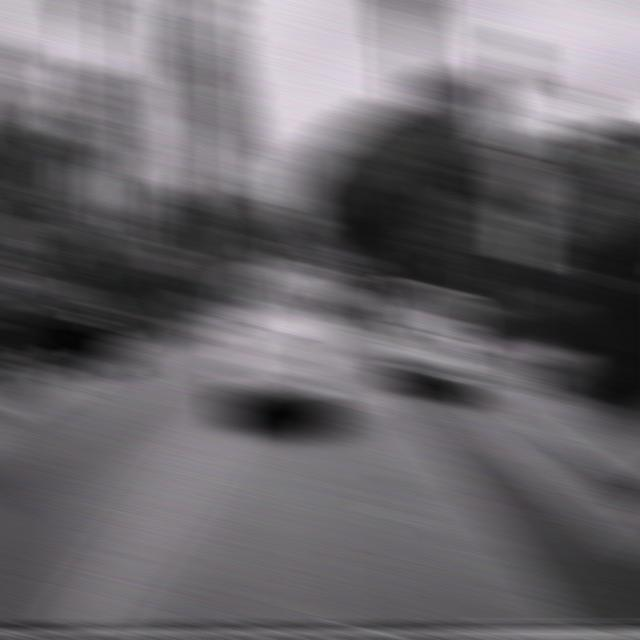stop_sign: (496, 152, 548, 218)
